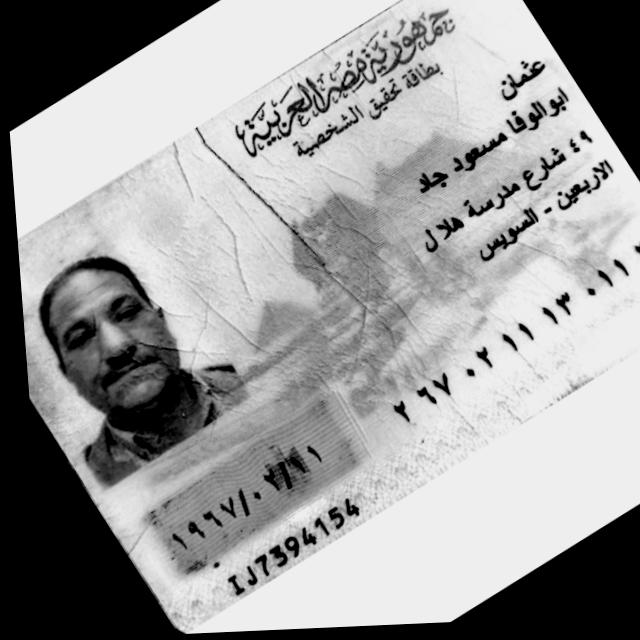front: (18, 0, 640, 632)
